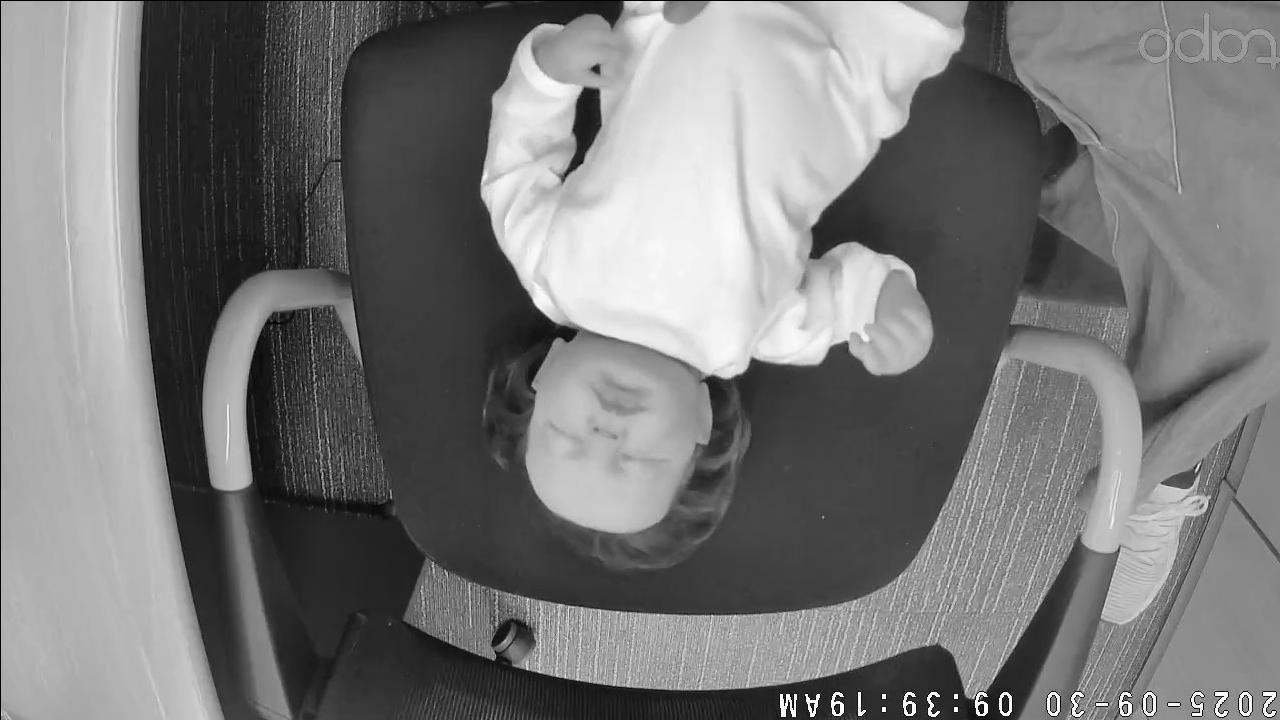hand: (843, 295, 930, 375), (555, 10, 627, 90)
